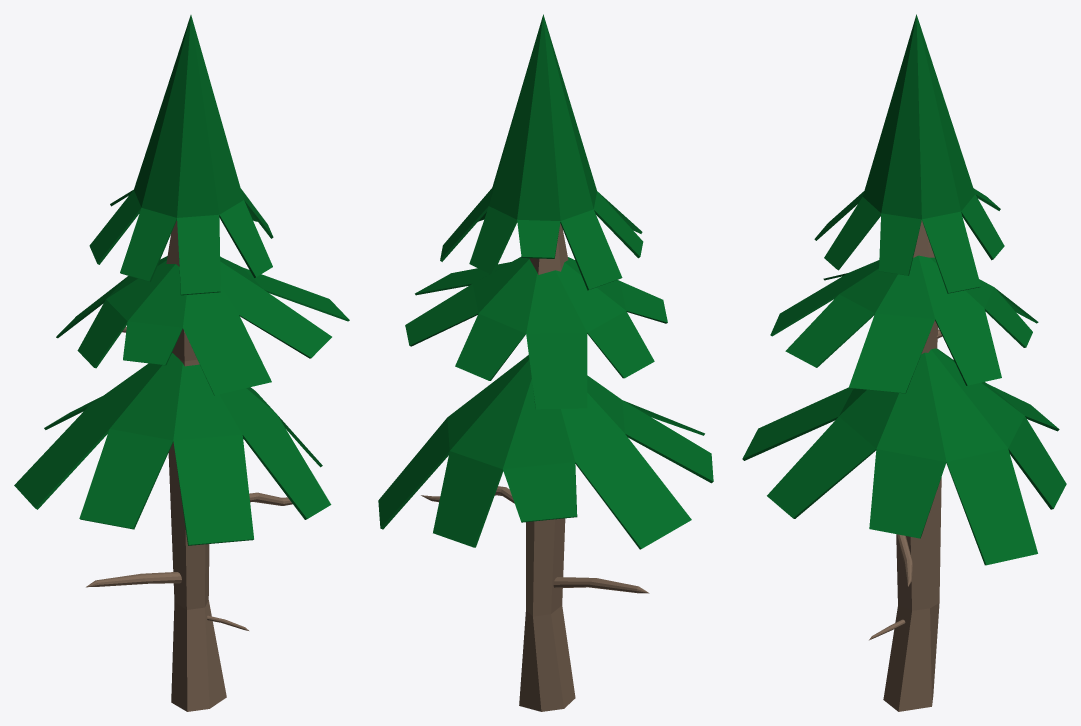
The model's file is Spruce_4.fbx.
3 views of the same model, side by side, from view 1: azimuth 30°, elevation 25°; view 2: azimuth 150°, elevation 25°; view 3: azimuth 270°, elevation 25° (orthographic).
Parts seen in each view (by area): view 1: Spruce_4; view 2: Spruce_4; view 3: Spruce_4.
Boxes of the visible parts, x1=… form: Spruce_4: x1=14, y1=15, x2=349, y2=711; Spruce_4: x1=378, y1=14, x2=713, y2=711; Spruce_4: x1=742, y1=14, x2=1066, y2=711.
Bounding box in the file's own units: 236 × 232 × 541.
